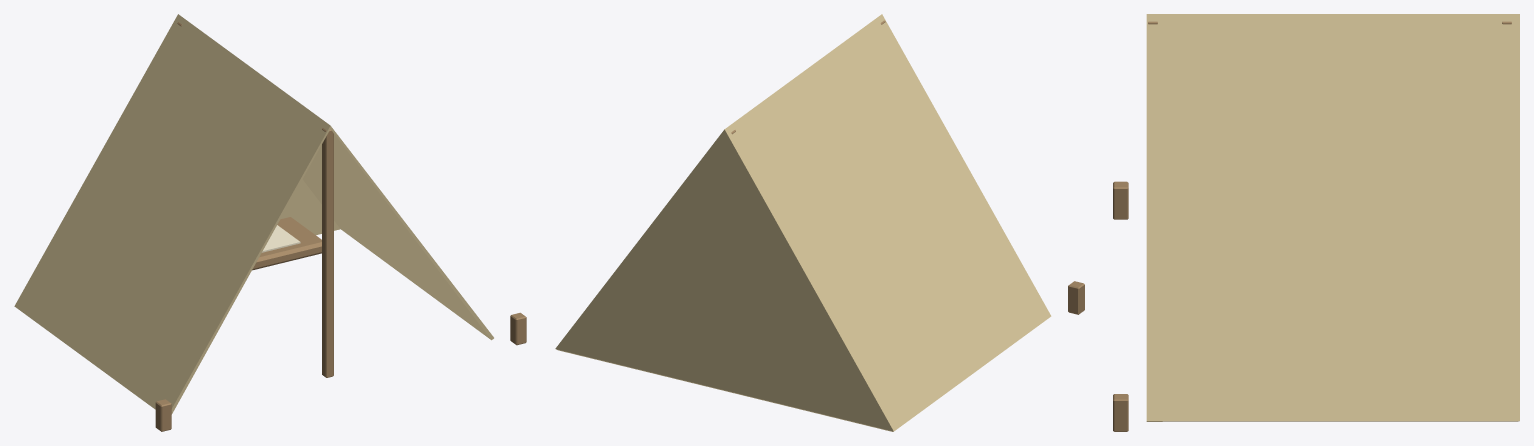
Rendered from slice_tent.glb.
3 renders of one model, left to right at view 1: azimuth 30°, elevation 25°; view 2: azimuth 150°, elevation 25°; view 3: azimuth 270°, elevation 25°, orthographic. The views are drawn at different scales.
Visible parts, largest first — view 1: Tent_canvas, Tent_pole, Desk, Map, Peg.001, Peg; view 2: Tent_canvas, Peg; view 3: Tent_canvas, Peg, Peg.001.
Boxes of the visible parts, box(x1,y1,x2,y2) form: Tent_canvas: box(14, 14, 493, 414); Tent_pole: box(322, 128, 333, 377); Desk: box(252, 217, 321, 270); Map: box(262, 225, 300, 252); Peg.001: box(510, 312, 526, 345); Peg: box(155, 399, 171, 431); Tent_canvas: box(555, 14, 1051, 431); Peg: box(1068, 281, 1084, 314); Tent_canvas: box(1146, 14, 1519, 421); Peg: box(1113, 181, 1128, 219); Peg.001: box(1113, 394, 1128, 431).
Bounding box in the file's own units: 4.02 × 2.67 × 3.16.
